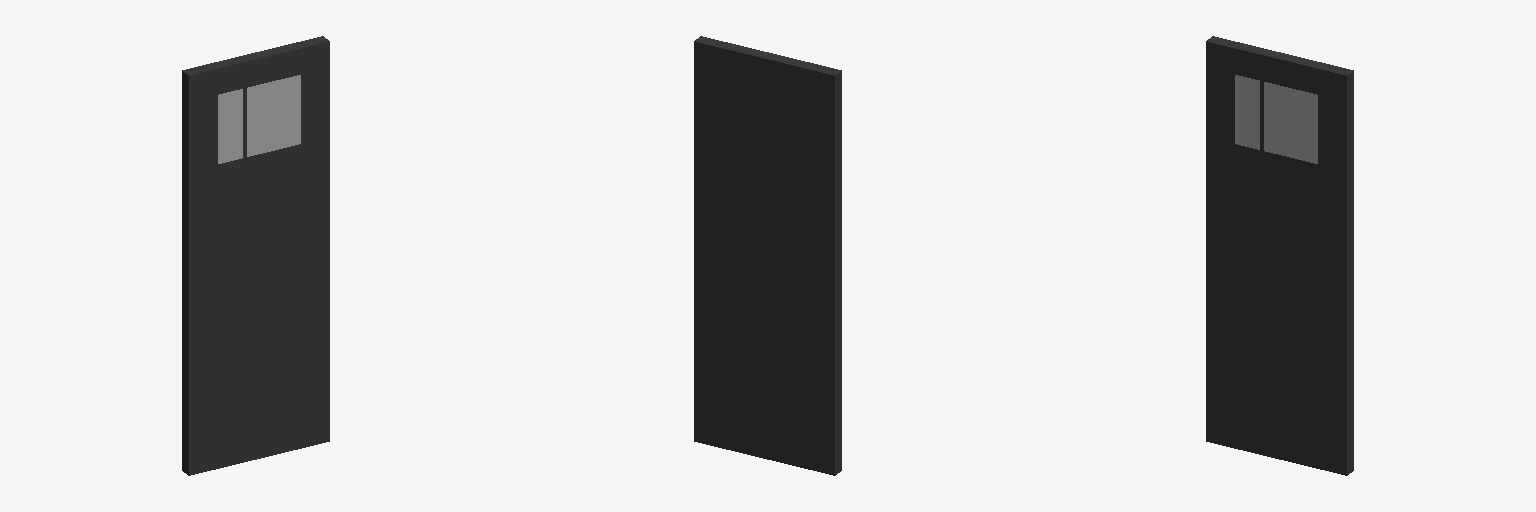
3 views of the same model, side by side, from view 1: azimuth 30°, elevation 25°; view 2: azimuth 150°, elevation 25°; view 3: azimuth 330°, elevation 25° (orthographic).
Visible parts, largest first — view 1: safe_cap_81; view 2: safe_cap_81; view 3: safe_cap_81.
Boxes of the visible parts, x1=… form: safe_cap_81: x1=182, y1=36, x2=329, y2=475; safe_cap_81: x1=694, y1=36, x2=841, y2=475; safe_cap_81: x1=1206, y1=36, x2=1353, y2=475.
Size of the model in its own units: 3.4 by 9.2 by 0.3.
1 materials, 1 textured.